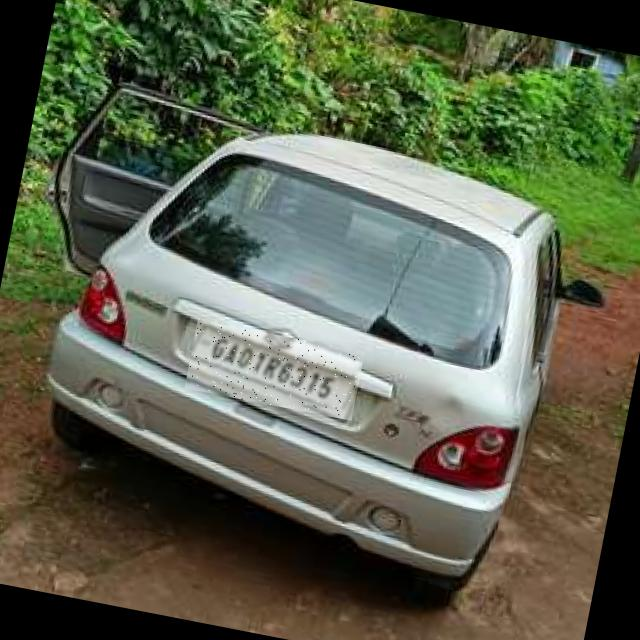Plate: (186, 321, 366, 422)
